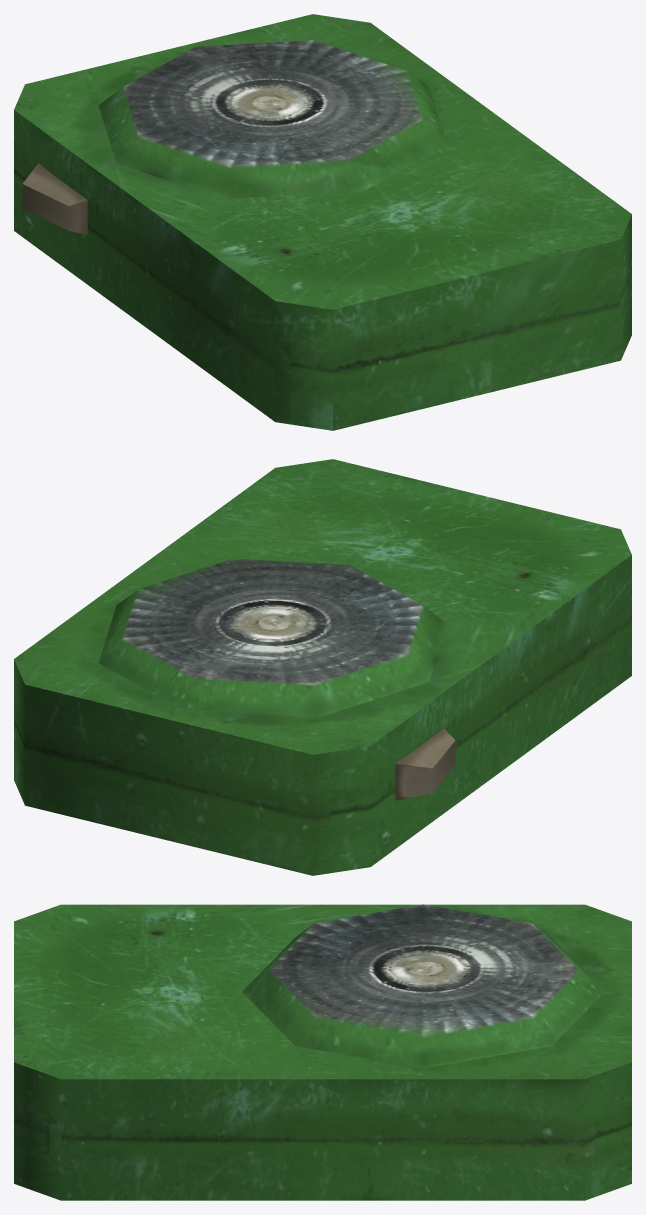
Rendered from flashlight_pocket.glb.
3 views of the same model, one above another, from view 1: azimuth 30°, elevation 25°; view 2: azimuth 150°, elevation 25°; view 3: azimuth 270°, elevation 25° (orthographic).
Visible parts, largest first — view 1: Flashlight_Poquet; view 2: Flashlight_Poquet; view 3: Flashlight_Poquet.
Part boxes in pixels (<box>): Flashlight_Poquet: <box>14,14,631,430</box>; Flashlight_Poquet: <box>14,459,631,875</box>; Flashlight_Poquet: <box>14,904,631,1200</box>.
Size of the model in its own units: 0.0852 by 0.0303 by 0.1185.
Materials: 1 (1 with a texture image).
